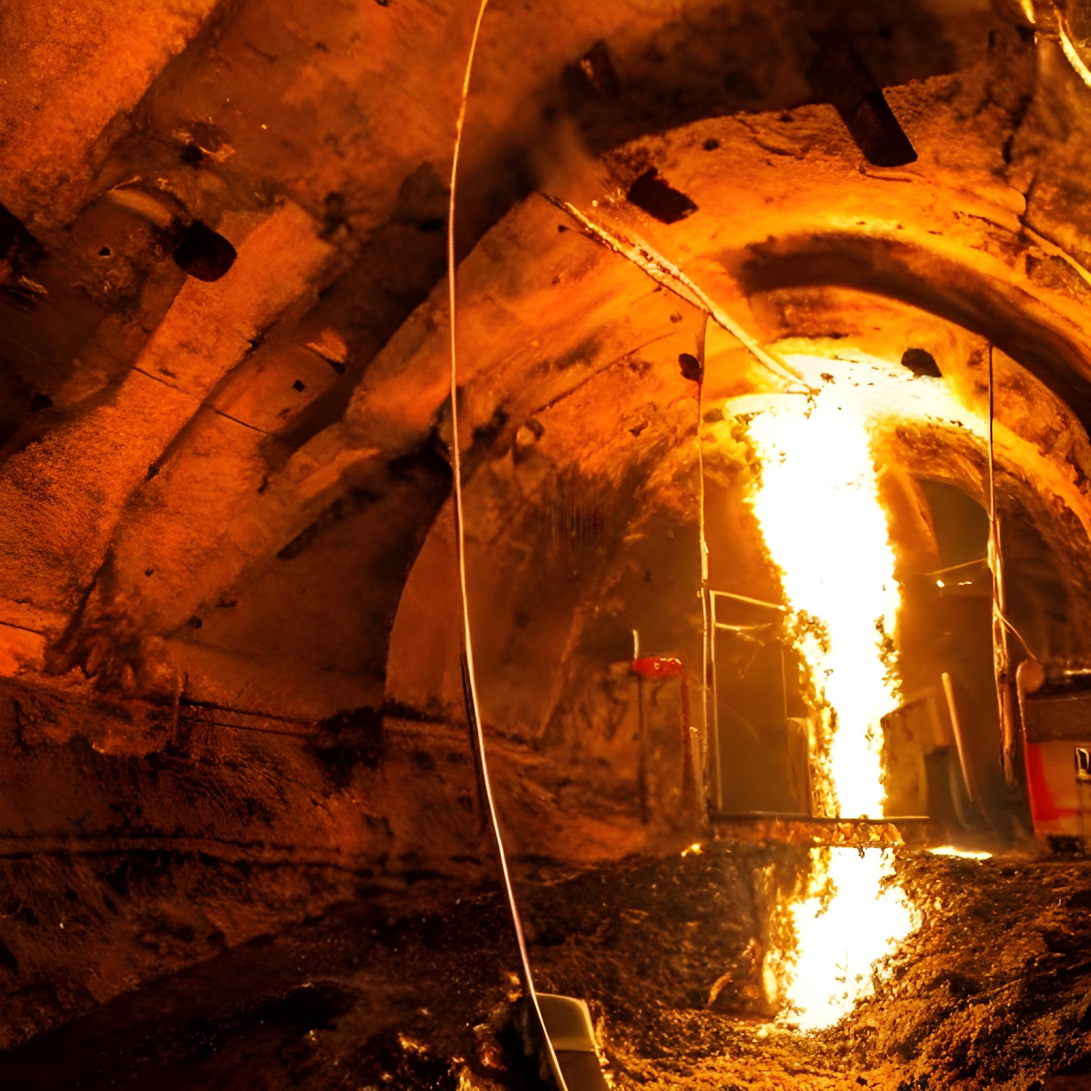fire: (590, 331, 1057, 1064)
